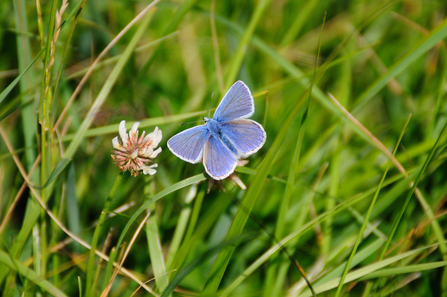Butterfly: (166, 79, 267, 181)
